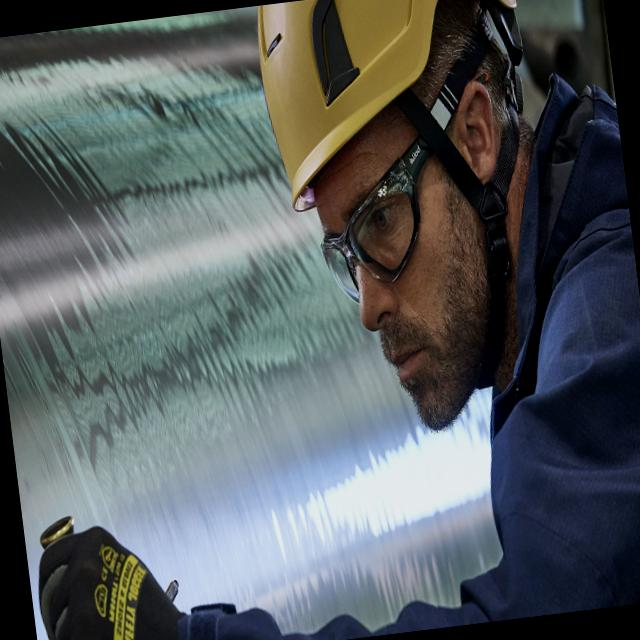goggles: (295, 107, 513, 320)
helmet: (249, 0, 544, 219)
no-vest: (479, 63, 640, 614)
